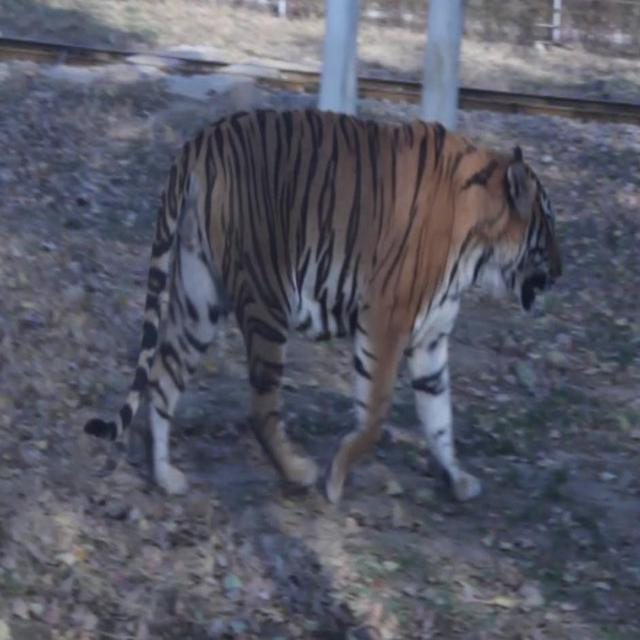tiger: (83, 104, 563, 506)
